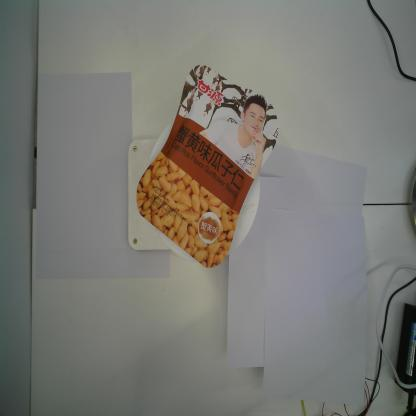Dried Fruit: (136, 63, 280, 268)
